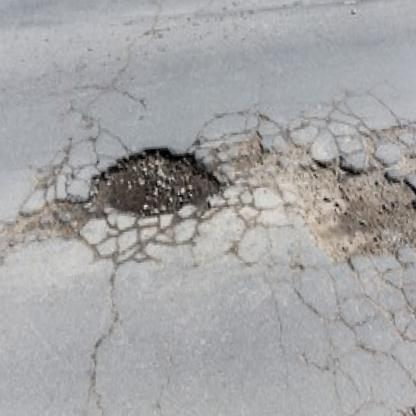pothole: (293, 148, 416, 276), (90, 139, 225, 232), (230, 132, 270, 179)
